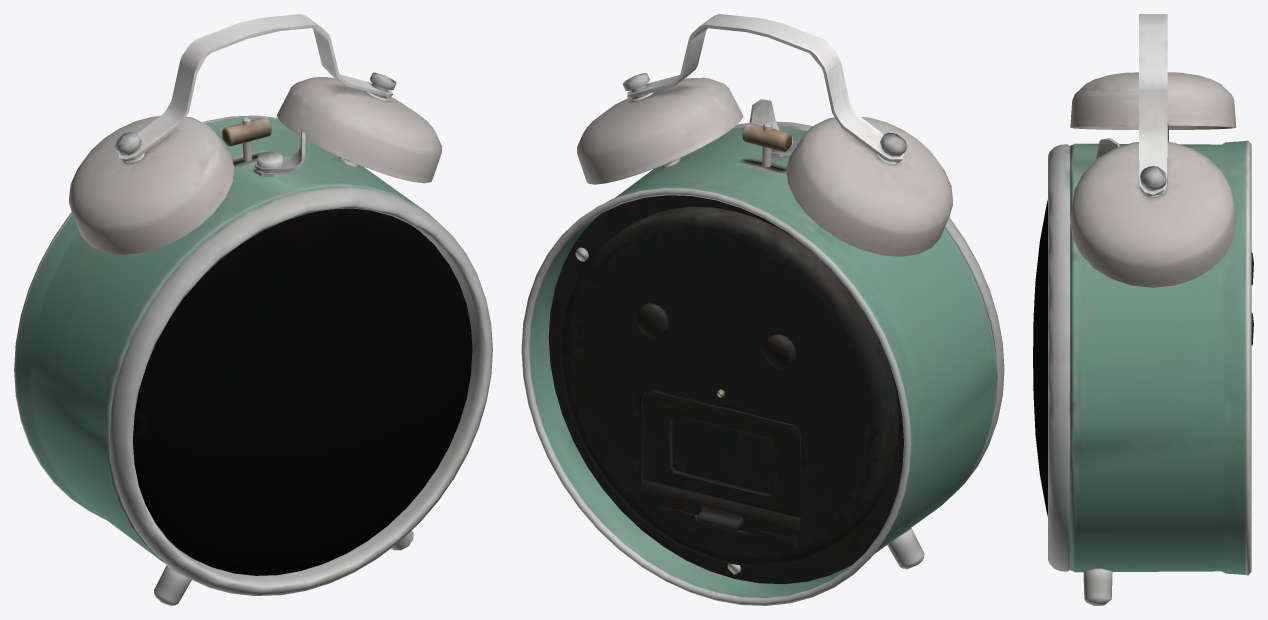
Rendered from alarm_clock_01.glb.
3 views of the same model, side by side, from view 1: azimuth 30°, elevation 25°; view 2: azimuth 150°, elevation 25°; view 3: azimuth 270°, elevation 25° (orthographic). The views are drawn at different scales.
Parts seen in each view (by area): view 1: alarm_clock_01; view 2: alarm_clock_01; view 3: alarm_clock_01.
Part boxes in pixels (left/top/right/bottom): alarm_clock_01: left=14, top=14, right=492, bottom=605; alarm_clock_01: left=521, top=14, right=1004, bottom=605; alarm_clock_01: left=1033, top=14, right=1253, bottom=605.
Size of the model in its own units: 0.1316 by 0.1741 by 0.0667.
Materials: 2 (2 with a texture image).
